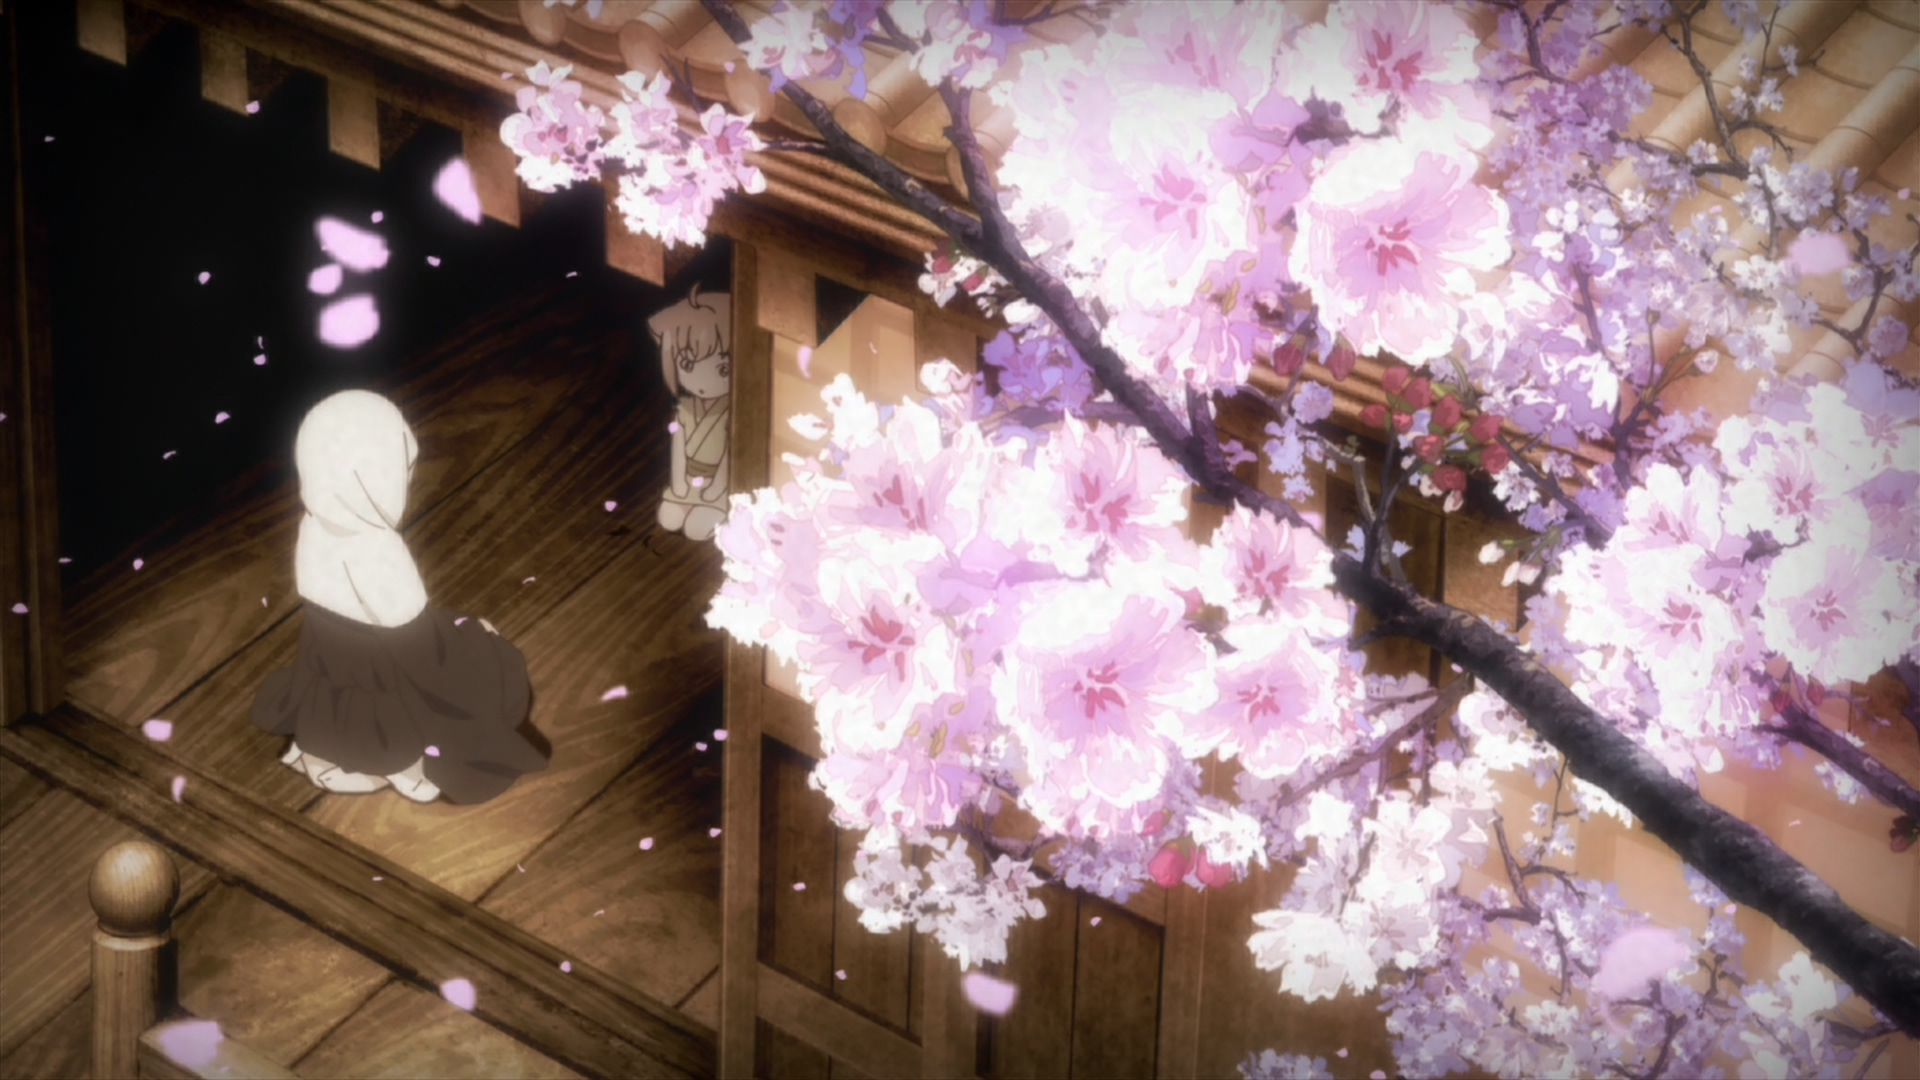八百比丘尼: (253, 385, 549, 803)
柚: (644, 281, 732, 541)
